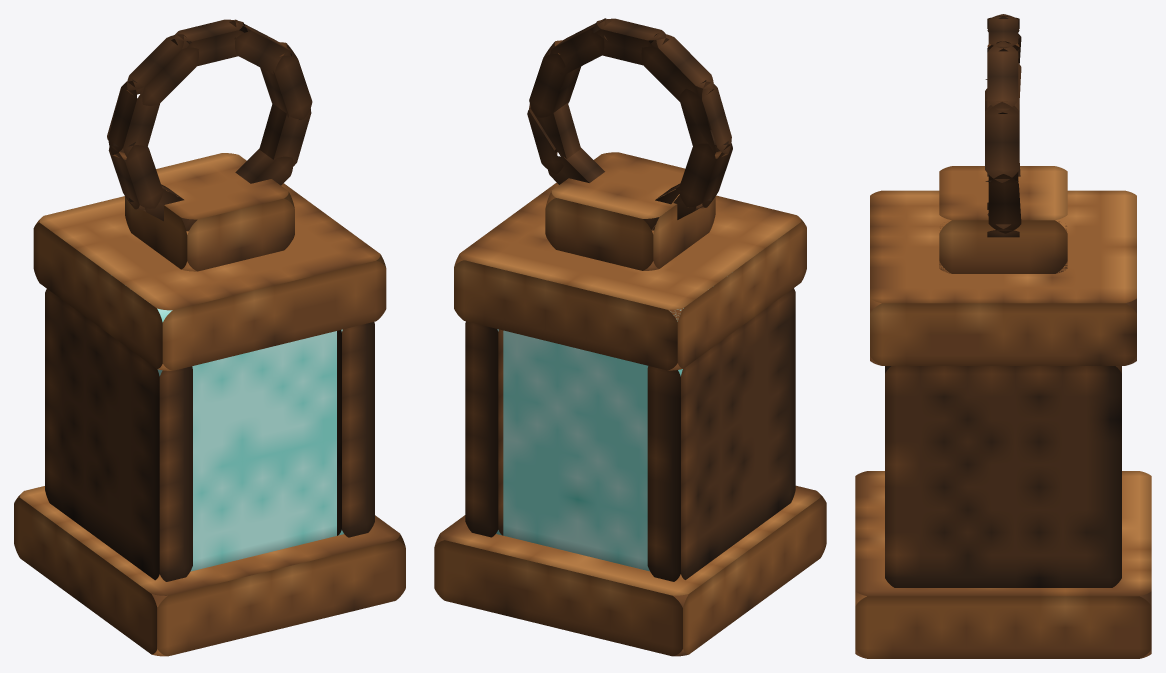
The model's file is foremans_lamp.obj.
3 views of the same model, side by side, from view 1: azimuth 30°, elevation 25°; view 2: azimuth 150°, elevation 25°; view 3: azimuth 270°, elevation 25° (orthographic). The views are drawn at different scales.
Visible parts, largest first — view 1: lit, fire; view 2: lit, fire; view 3: lit.
Part boxes in pixels (left/top/right/bottom): lit: left=14, top=19, right=405, bottom=656; fire: left=157, top=308, right=343, bottom=571; lit: left=434, top=18, right=826, bottom=656; fire: left=496, top=308, right=683, bottom=571; lit: left=855, top=14, right=1151, bottom=658.
Bounding box in the file's own units: 0.375 × 0.7927 × 0.375.
